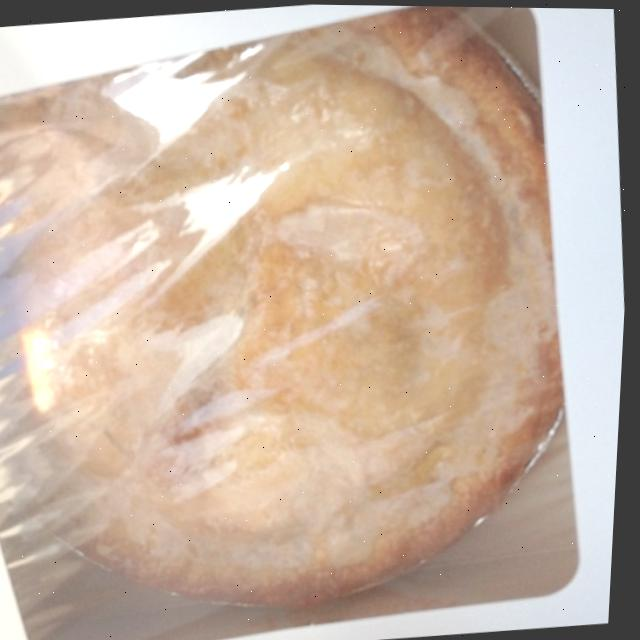炸货点心: (0, 0, 609, 619)
蛋糕甜品: (0, 0, 609, 619)
